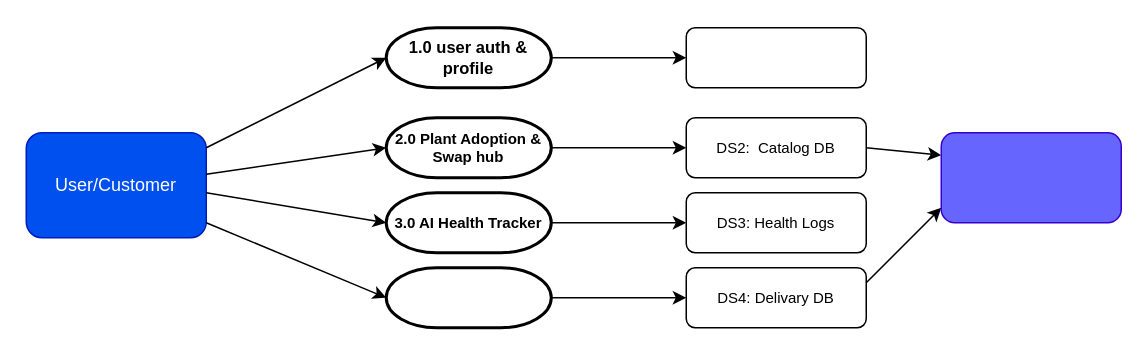
Some shapes in this 1148 by 354 pixel diagram are drawn without their labels. The centre of each missing label's shape, as x and y in pixels:
4.0 Green Route Delivary system: the point at 468,297
DS1: User DB: the point at 775,57
System Admin: the point at 1030,177
